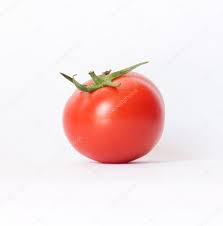tomato: (63, 73, 166, 164)
